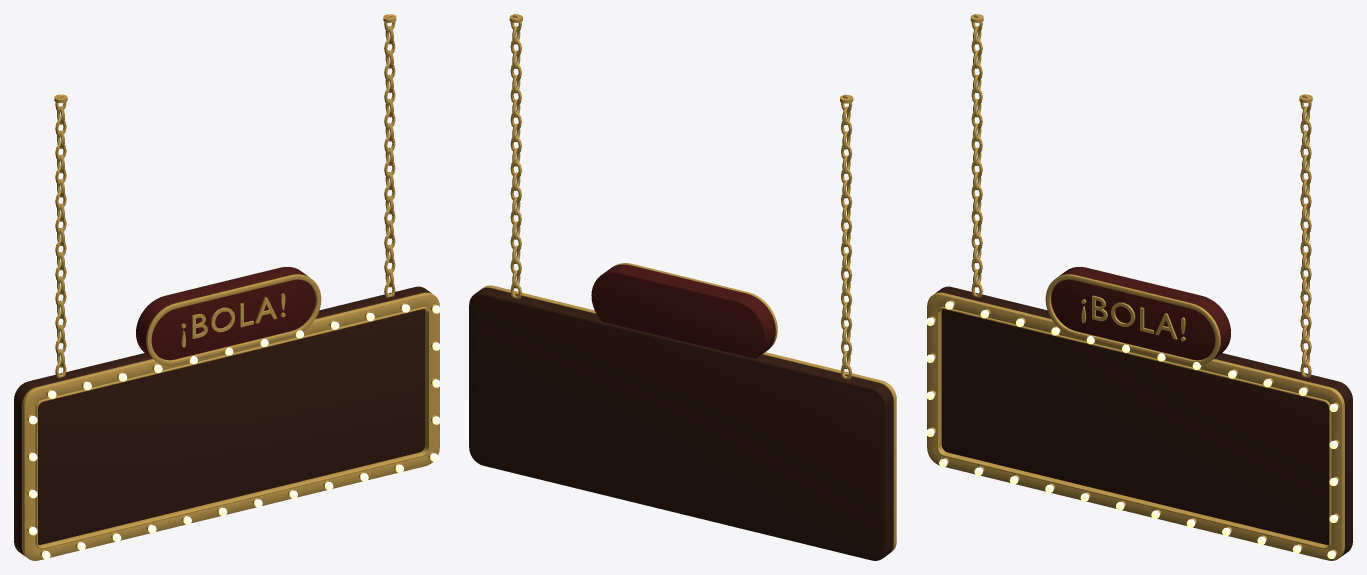
Rendered from bingo-sign.glb.
3 views of the same model, side by side, from view 1: azimuth 30°, elevation 25°; view 2: azimuth 150°, elevation 25°; view 3: azimuth 330°, elevation 25° (orthographic).
Visible parts, largest first — view 1: WinnerSign; view 2: WinnerSign; view 3: WinnerSign.
Boxes of the visible parts, bbox=[...] form: WinnerSign: bbox=[14, 14, 440, 560]; WinnerSign: bbox=[469, 14, 897, 560]; WinnerSign: bbox=[926, 14, 1352, 560].
Bounding box in the file's own units: 0.86 × 0.8972 × 0.0555.
